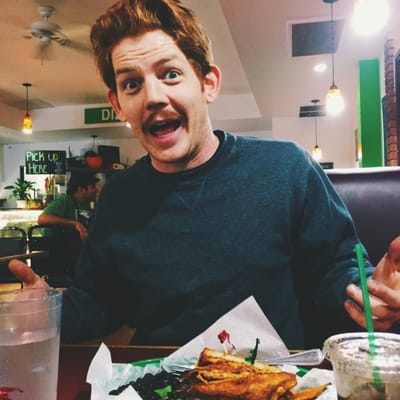pizza: (0, 288, 64, 400), (323, 331, 400, 400)
